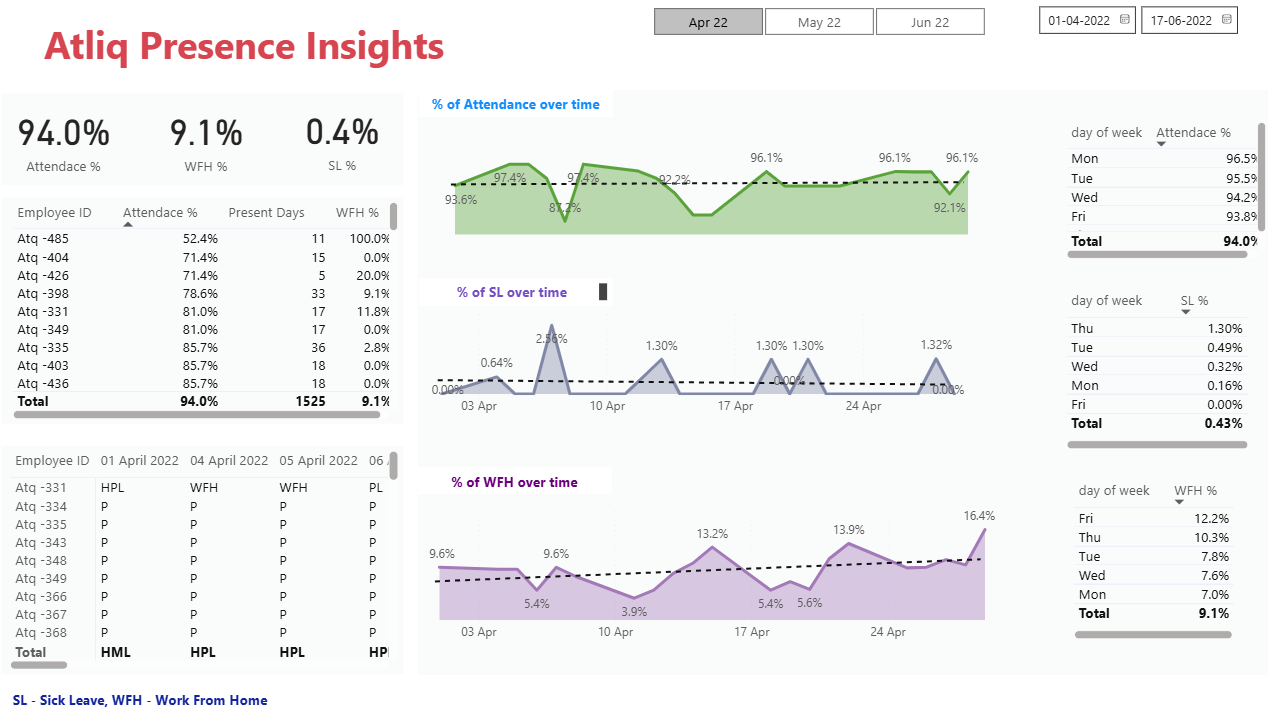

Layout of this report page (visuals, bound fields, positions):
{"tool":"powerbi","page":{"name":"Presence Insights","canvas":[1280,720],"ordinal":0},"visuals":[{"type":"textbox","box":[7.8,205.6,399.9,225.5],"z":0},{"type":"textbox","box":[7.8,453.3,399.8,227.6],"z":1000},{"type":"textbox","box":[422.3,97.9,848.1,582.3],"z":2000},{"type":"textbox","box":[7.8,98,399.9,95.4],"z":3000},{"type":"tableEx","fields":{"Values":["Final Data.Employee ID","Measures (2).Attendace %","Measures (2).Present Days","Measures (2).WFH %"]},"box":[12.6,205.2,394.9,225.7],"z":4000},{"type":"slicer","fields":{"Values":["Final Data.Date"]},"box":[1027.3,5.2,252.7,46.3],"z":5000},{"type":"slicer","fields":{"Values":["Final Data.MMM YY"]},"box":[630.4,10.5,379.5,35.8],"z":6000},{"type":"areaChart","fields":{"Category":["Final Data.MMM YY","Final Data.Date"],"Y":["Measures (2).WFH %"]},"box":[420.7,502.3,589,153.5],"z":7000},{"type":"areaChart","fields":{"Category":["Final Data.WeekNo","Final Data.Date"],"Y":["Measures (2).Attendace %"]},"box":[444.1,144.9,540.4,103.2],"z":8000},{"type":"card","fields":{"Values":["Measures (2).Attendace %"]},"box":[7.8,98,124,96.3],"z":9000},{"type":"card","fields":{"Values":["Measures (2).WFH %"]},"box":[141.4,98,138.8,96.3],"z":10000},{"type":"areaChart","fields":{"Category":["Final Data.MMM YY","Final Data.Date"],"Y":["Measures (2).SL %"]},"box":[422.5,307.1,556,124],"z":11000},{"type":"card","fields":{"Values":["Measures (2).SL %"]},"box":[286.3,97.2,121.4,96.3],"z":13000},{"type":"textbox","box":[7.5,5,482.7,97],"z":14000},{"type":"textbox","box":[422.4,98.2,192.5,27.5],"z":15000},{"type":"textbox","box":[422.5,286.3,192.6,26.9],"z":16000},{"type":"textbox","box":[422.1,473.7,192.6,27.2],"z":17000},{"type":"pivotTable","fields":{"Rows":["Final Data.Employee ID"],"Columns":["Final Data.Date"],"Values":["Min(Final Data.Value)"]},"box":[11.7,453.3,395.9,227.6],"z":18000},{"type":"textbox","box":[13.6,691.6,289.8,28.2],"z":19000},{"type":"tableEx","fields":{"Values":["Final Data.day of week","Measures (2).Attendace %"]},"box":[1060.9,125.8,209.9,145.7],"z":20000},{"type":"tableEx","fields":{"Values":["Final Data.day of week","Measures (2).SL %"]},"box":[1060.9,294.1,191.7,167.4],"z":21000},{"type":"tableEx","fields":{"Values":["Final Data.day of week","Measures (2).WFH %"]},"box":[1068.7,483.2,170,167.4],"z":22000}]}

Visuals, with their boxes in screenshot pixels (x1, y1, x2, y2), scaled from the page's 1280x720 canvas onto the 1268x712 screenshot:
textbox: select_region(8, 203, 404, 426)
textbox: select_region(8, 448, 404, 673)
textbox: select_region(418, 97, 1258, 673)
textbox: select_region(8, 97, 404, 191)
tableEx - Final Data.Employee ID x Measures (2).Attendace %: select_region(12, 203, 404, 426)
slicer - Final Data.Date: select_region(1018, 5, 1267, 51)
slicer - Final Data.MMM YY: select_region(624, 10, 1000, 46)
areaChart - Final Data.MMM YY x Final Data.Date: select_region(417, 497, 1000, 649)
areaChart - Final Data.WeekNo x Final Data.Date: select_region(440, 143, 975, 245)
card - Measures (2).Attendace %: select_region(8, 97, 131, 192)
card - Measures (2).WFH %: select_region(140, 97, 278, 192)
areaChart - Final Data.MMM YY x Final Data.Date: select_region(419, 304, 969, 426)
card - Measures (2).SL %: select_region(284, 96, 404, 191)
textbox: select_region(7, 5, 486, 101)
textbox: select_region(418, 97, 609, 124)
textbox: select_region(419, 283, 609, 310)
textbox: select_region(418, 468, 609, 495)
pivotTable - Final Data.Employee ID x Final Data.Date: select_region(12, 448, 404, 673)
textbox: select_region(13, 684, 301, 711)
tableEx - Final Data.day of week x Measures (2).Attendace %: select_region(1051, 124, 1259, 268)
tableEx - Final Data.day of week x Measures (2).SL %: select_region(1051, 291, 1241, 456)
tableEx - Final Data.day of week x Measures (2).WFH %: select_region(1059, 478, 1227, 643)
